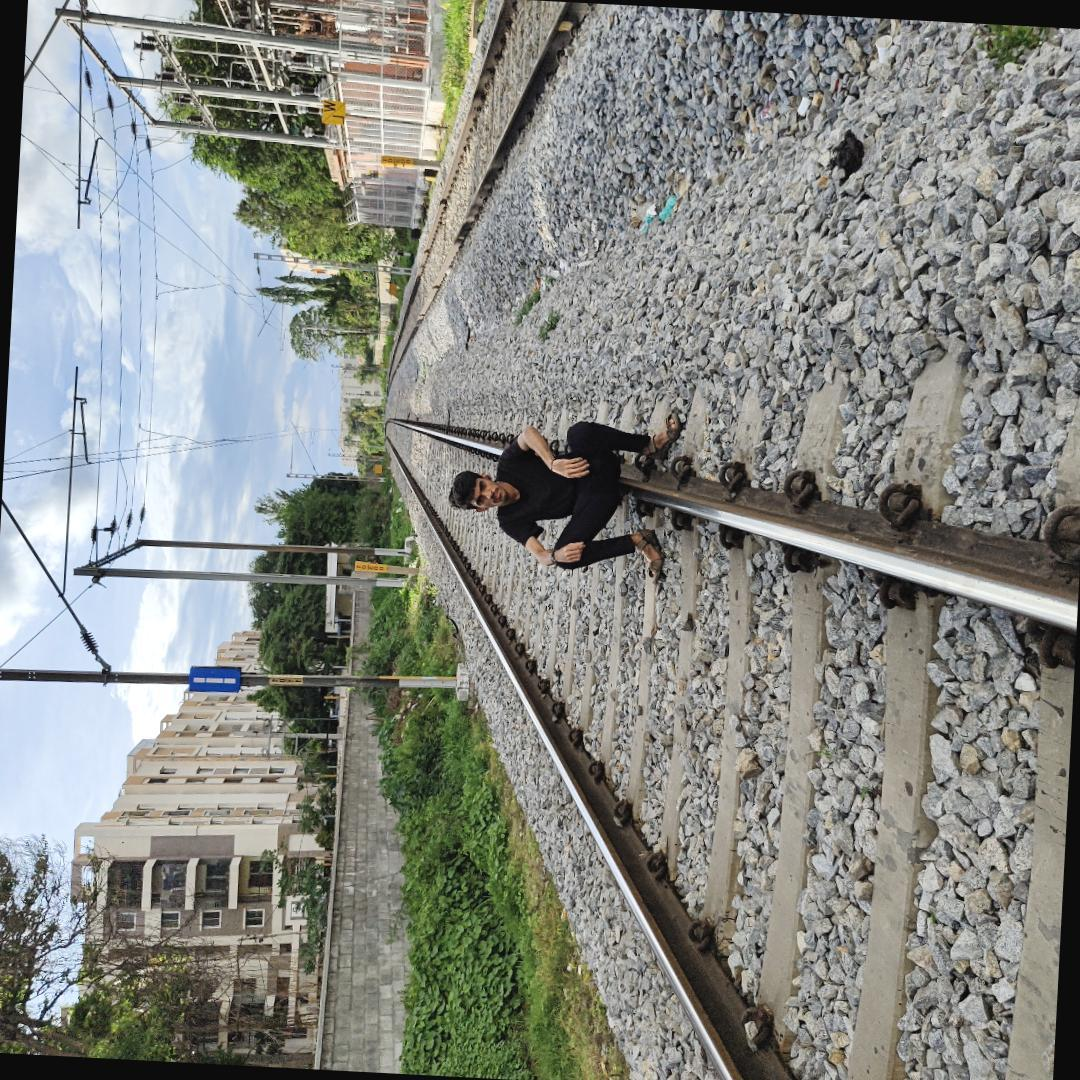sitting: (433, 399, 682, 589)
